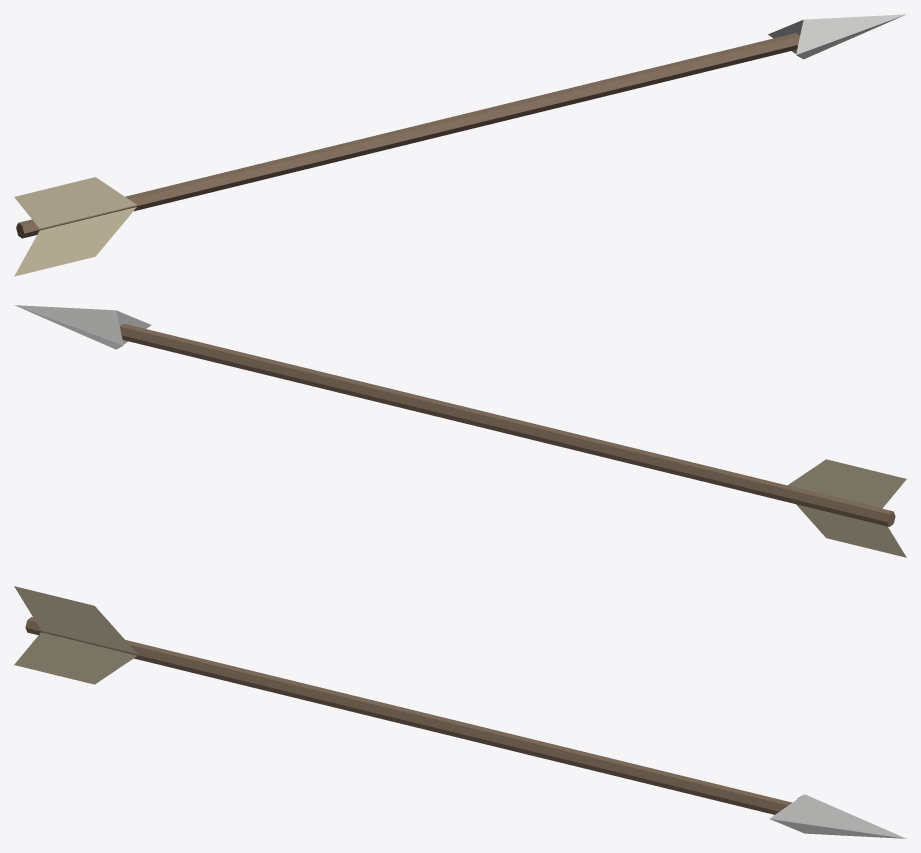
Rendered from arrow.glb.
3 renders of one model, top to bottom at view 1: azimuth 30°, elevation 25°; view 2: azimuth 150°, elevation 25°; view 3: azimuth 330°, elevation 25°, orthographic.
Parts seen in each view (by area): view 1: Arrow shaft, Arrow feather, Arrow feather.001, Arrowhead; view 2: Arrow shaft, Arrow feather.001, Arrowhead, Arrow feather; view 3: Arrow shaft, Arrow feather, Arrow feather.001, Arrowhead.
Boxes of the visible parts, <box> form: Arrow shaft: <box>16,33,799,238</box>; Arrow feather: <box>14,207,136,276</box>; Arrow feather.001: <box>14,177,136,228</box>; Arrowhead: <box>768,14,906,59</box>; Arrow shaft: <box>119,323,895,526</box>; Arrow feather.001: <box>787,459,906,508</box>; Arrowhead: <box>14,305,151,349</box>; Arrow feather: <box>796,504,906,557</box>; Arrow shaft: <box>25,617,791,814</box>; Arrow feather: <box>14,632,137,684</box>; Arrow feather.001: <box>14,586,137,653</box>; Arrowhead: <box>769,794,906,838</box>.
Bounding box in the file's own units: 1.65 × 0.14 × 0.09.
